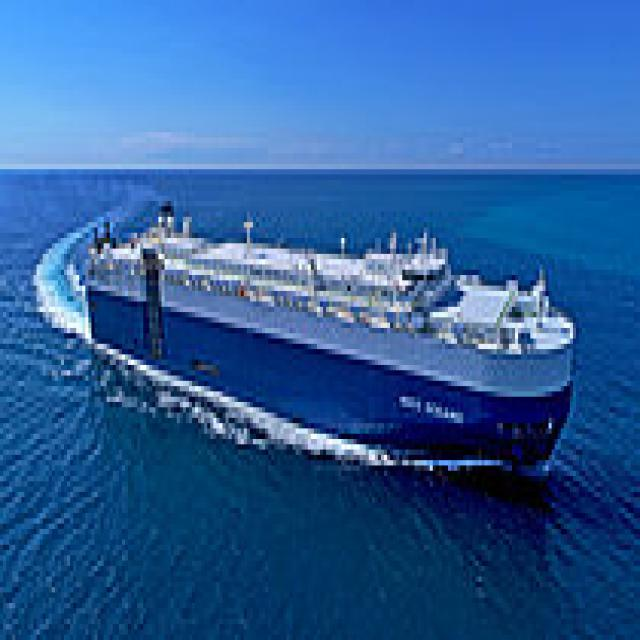Carrier: (76, 190, 576, 471)
